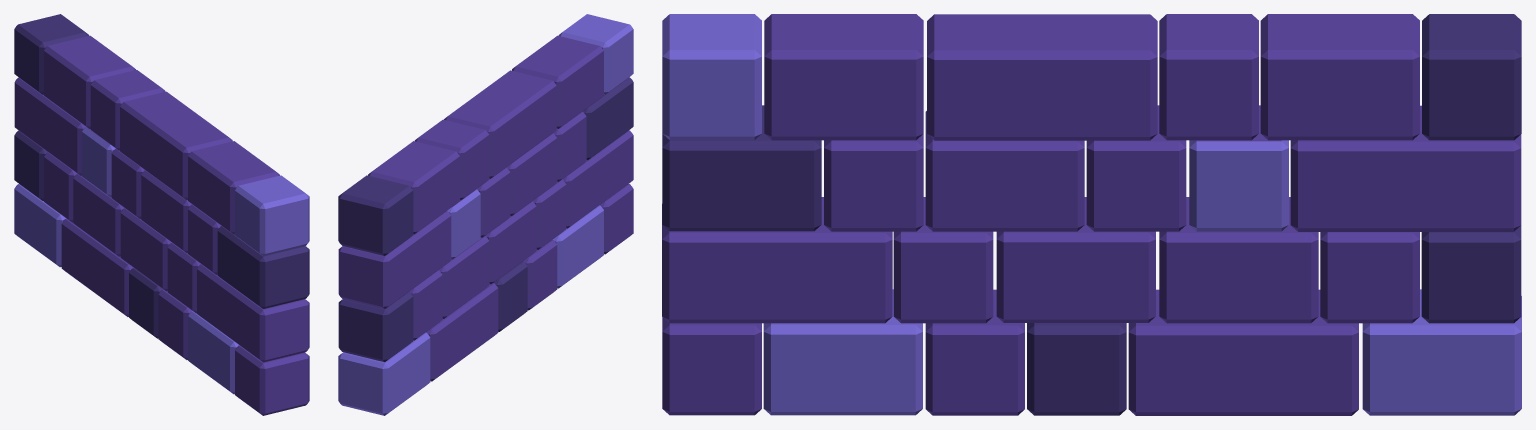
The model's file is large ruin walls.fbx.
3 views of the same model, side by side, from view 1: azimuth 30°, elevation 25°; view 2: azimuth 150°, elevation 25°; view 3: azimuth 270°, elevation 25° (orthographic). The views are drawn at different scales.
Visible parts, largest first — view 1: brocken wall small.002; view 2: brocken wall small.002; view 3: brocken wall small.002.
Part boxes in pixels (left/top/right/bottom): brocken wall small.002: left=14, top=14, right=309, bottom=415; brocken wall small.002: left=338, top=14, right=633, bottom=415; brocken wall small.002: left=662, top=14, right=1521, bottom=415.
Size of the model in its own units: 122 by 493 by 1050.
